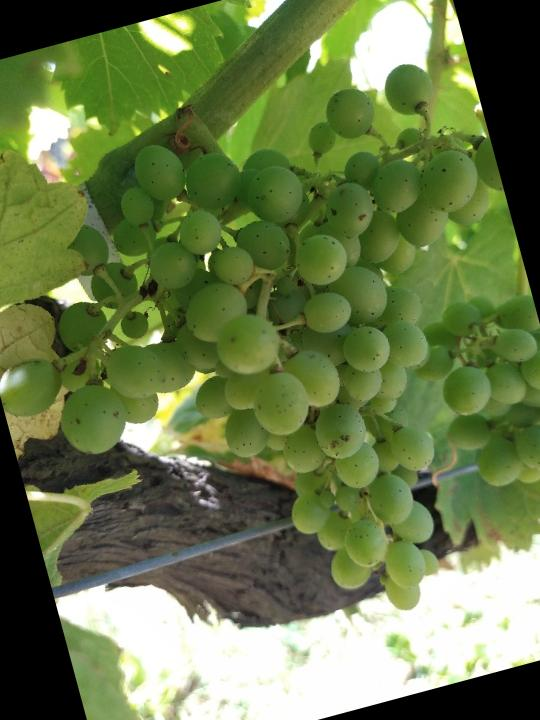grape: (0, 49, 540, 697)
